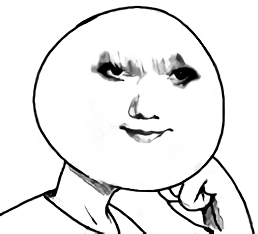dragon: (89, 51, 202, 145)
